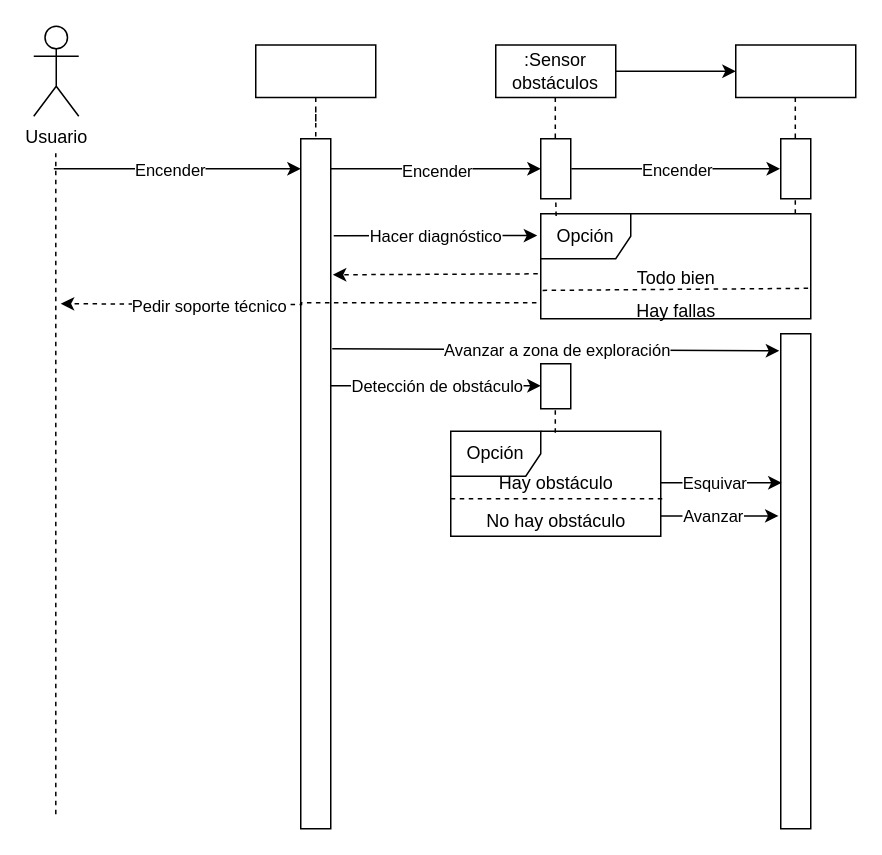
This 882x855 diagram has some shape labels left out. Here are the shapes that lost their labels. From the top down, the box of each, then its label:
(254, 44, 376, 98): :Sistema
(734, 44, 856, 98): :Robot
